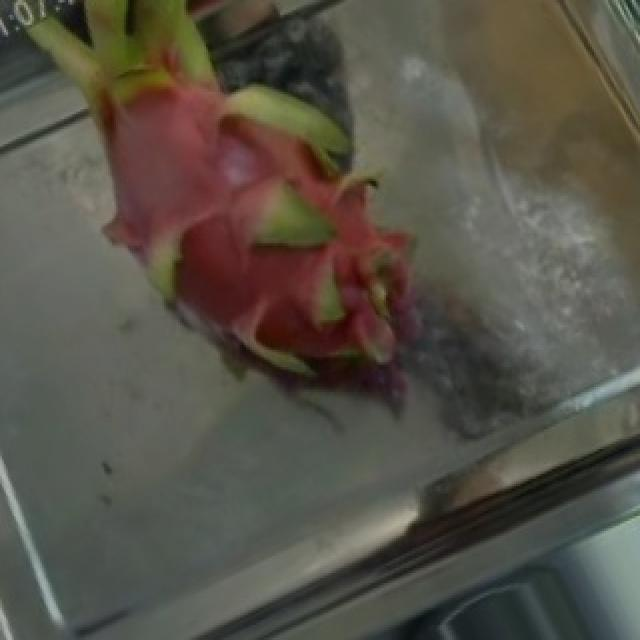fruit: (8, 0, 446, 429)
